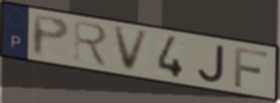4: (156, 34, 186, 80)
F: (232, 45, 270, 90)
J: (196, 42, 227, 84)
P: (30, 13, 72, 59)
R: (72, 18, 111, 70)
V: (112, 25, 152, 73)
